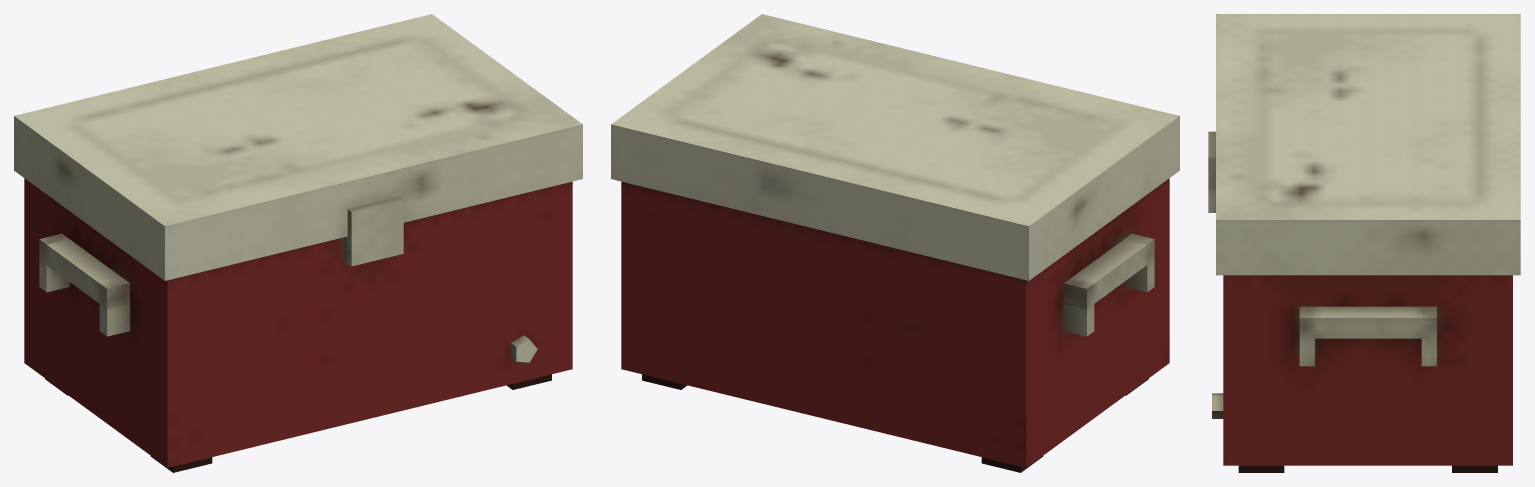
File: Cooler_01.obj
The picture shows the model from 3 angles, left to right: view 1: azimuth 30°, elevation 25°; view 2: azimuth 150°, elevation 25°; view 3: azimuth 270°, elevation 25°; orthographic projection.
Visible parts, largest first — view 1: Cooler_01; view 2: Cooler_01; view 3: Cooler_01.
Part boxes in pixels (x1=…): Cooler_01: x1=14, y1=14, x2=582, y2=472; Cooler_01: x1=611, y1=14, x2=1179, y2=472; Cooler_01: x1=1208, y1=14, x2=1520, y2=472.
Bounding box in the file's own units: 0.69 × 0.38 × 0.41.
1 material, 1 textured.
